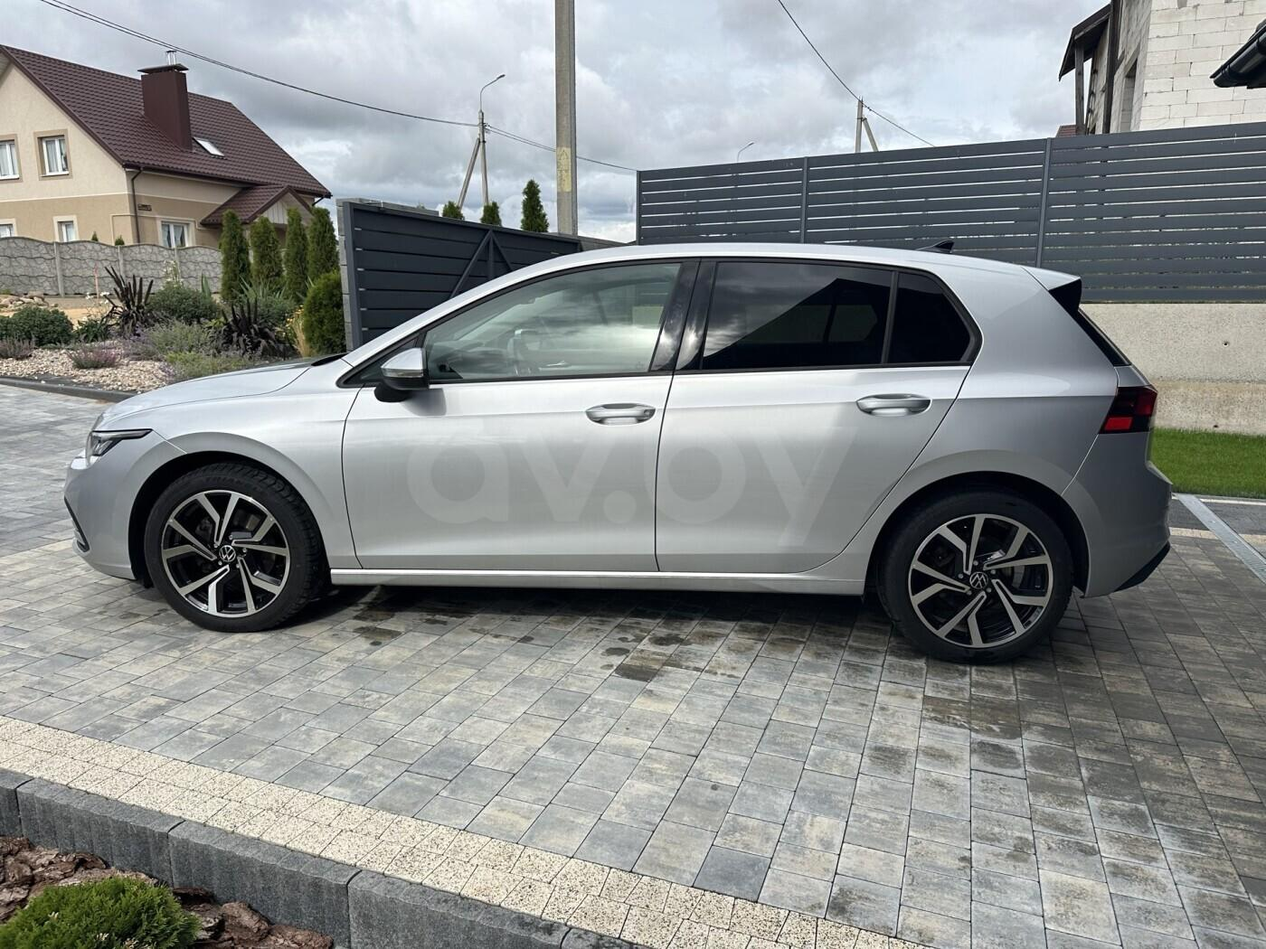Golf_2019: (58, 234, 1177, 657)
